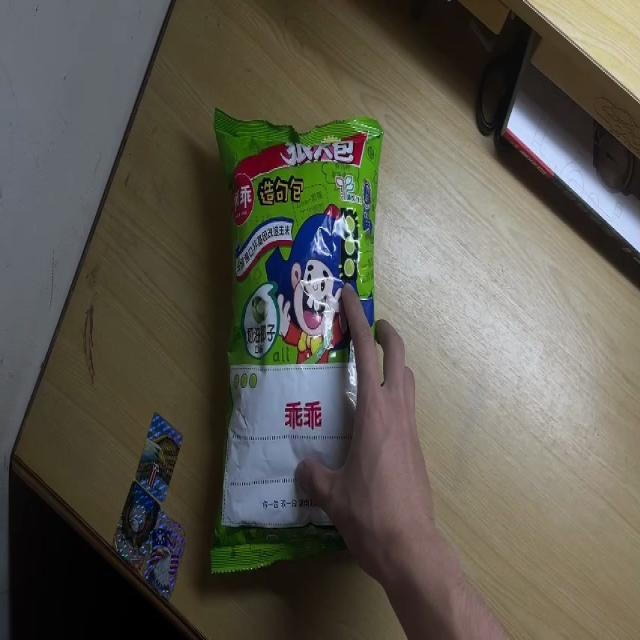Good-Luck: (212, 107, 382, 576)
